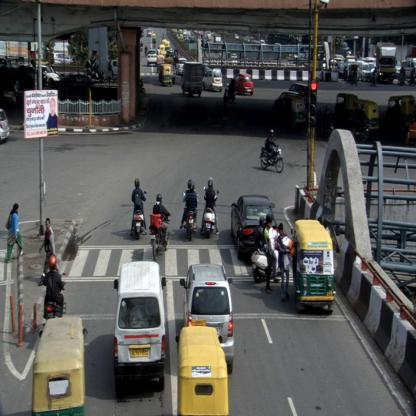car: (114, 263, 165, 393), (181, 264, 234, 374), (231, 195, 276, 262), (202, 67, 223, 92), (234, 73, 255, 97), (358, 62, 374, 82), (147, 50, 158, 66)
motorcycle: (150, 191, 172, 262), (261, 129, 285, 173), (202, 176, 219, 238), (181, 178, 197, 240), (132, 180, 146, 238)
truck: (376, 43, 395, 86), (180, 62, 202, 98)
